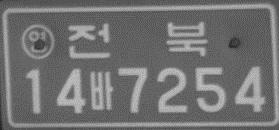1: (19, 67, 50, 115)
2: (155, 66, 188, 114)
4: (54, 67, 85, 113), (234, 66, 265, 112)
5: (194, 66, 225, 113)
7: (117, 66, 147, 113)
바: (89, 70, 114, 112)
영: (20, 24, 54, 60)
전북_D: (67, 21, 207, 61)
